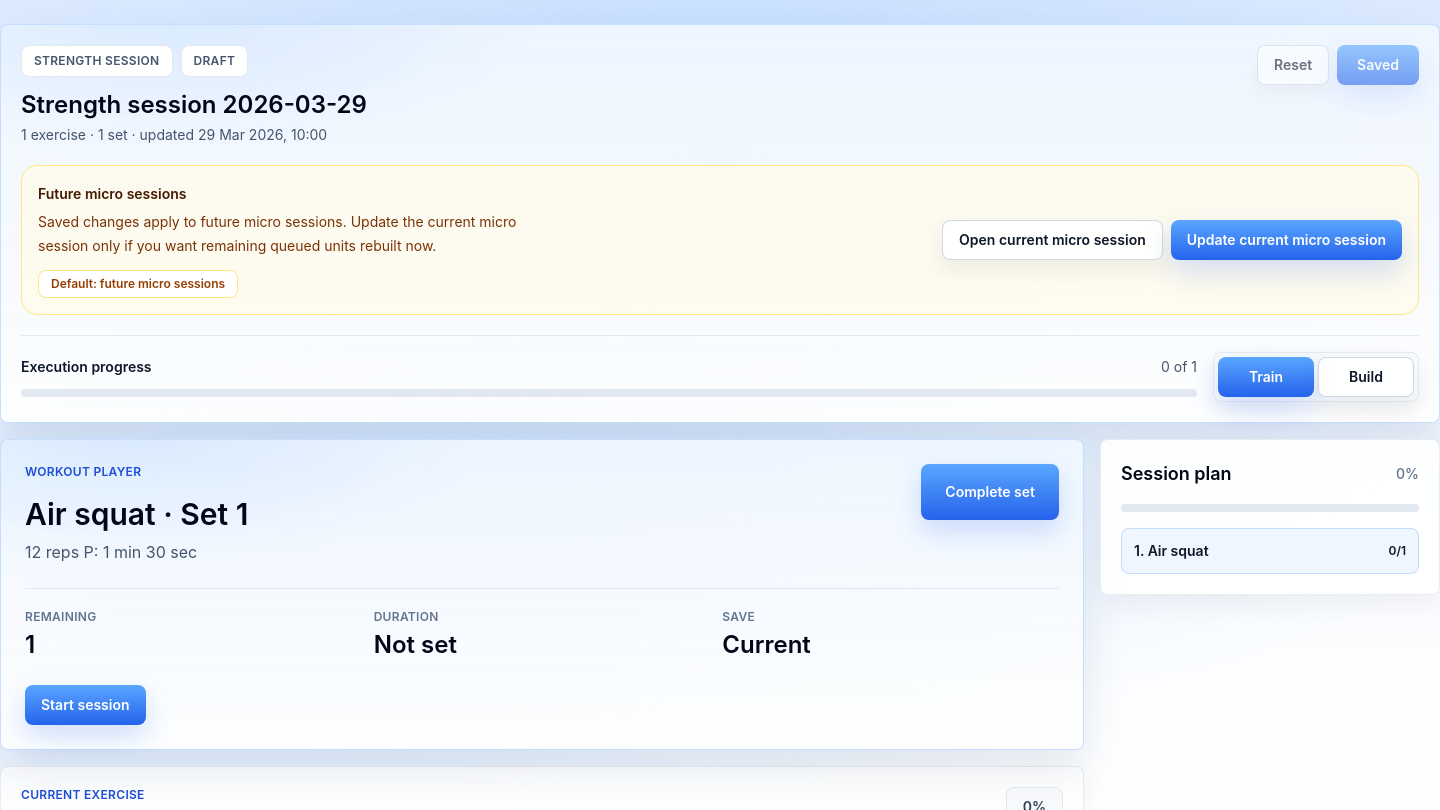
Test case: DrylandBuilderHub › announces current micro-session update guidance when unsaved editor changes block rebuilds
Click the tab with test id "dryland-mode-build". click: click(1366, 377)
box: [1318, 357, 1414, 397]
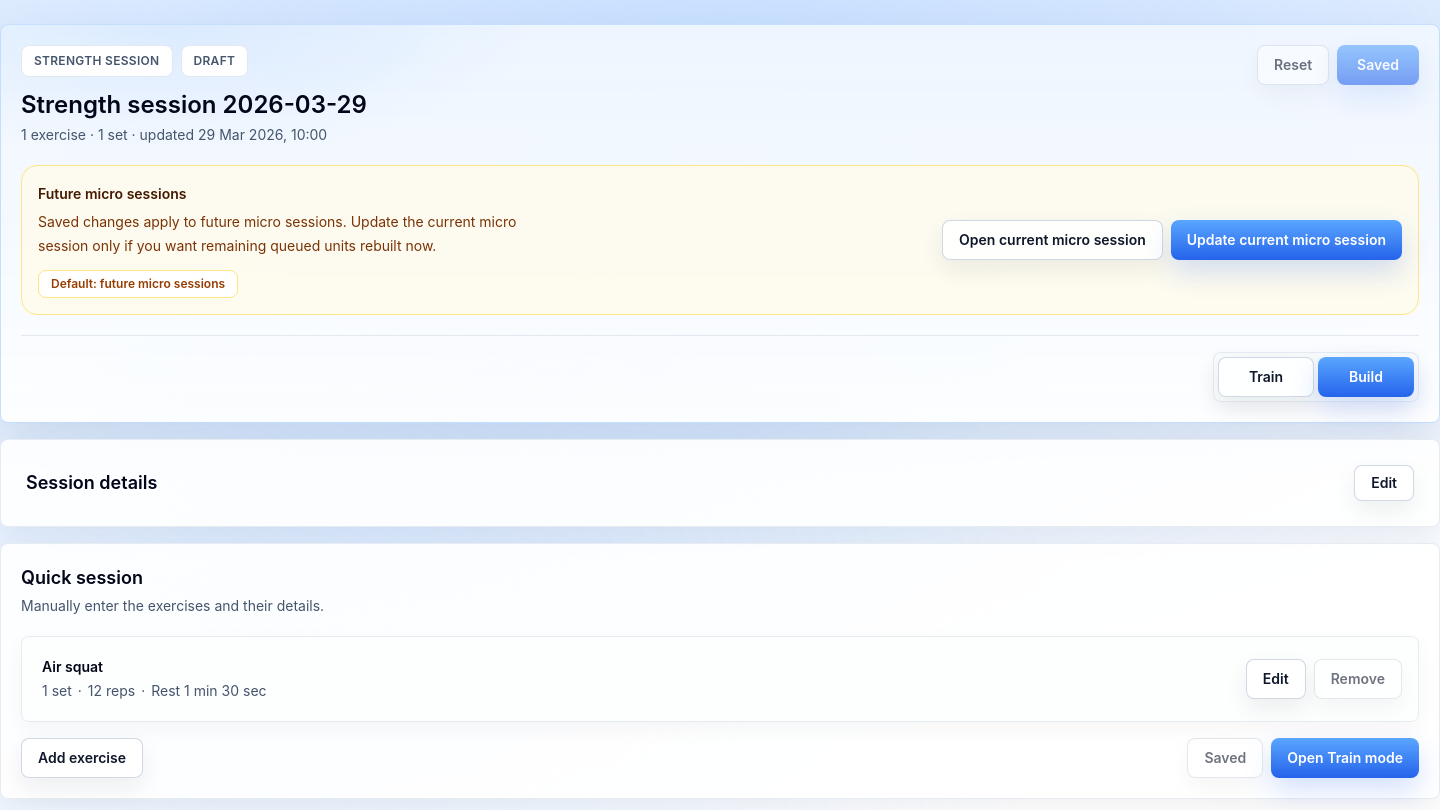
Expected: the element with test id "dryland-build-mode" is shown, [0, 439, 1439, 799]
Click the button with test id "dryland-session-details-toggle". click: click(92, 482)
box: [21, 460, 1419, 506]
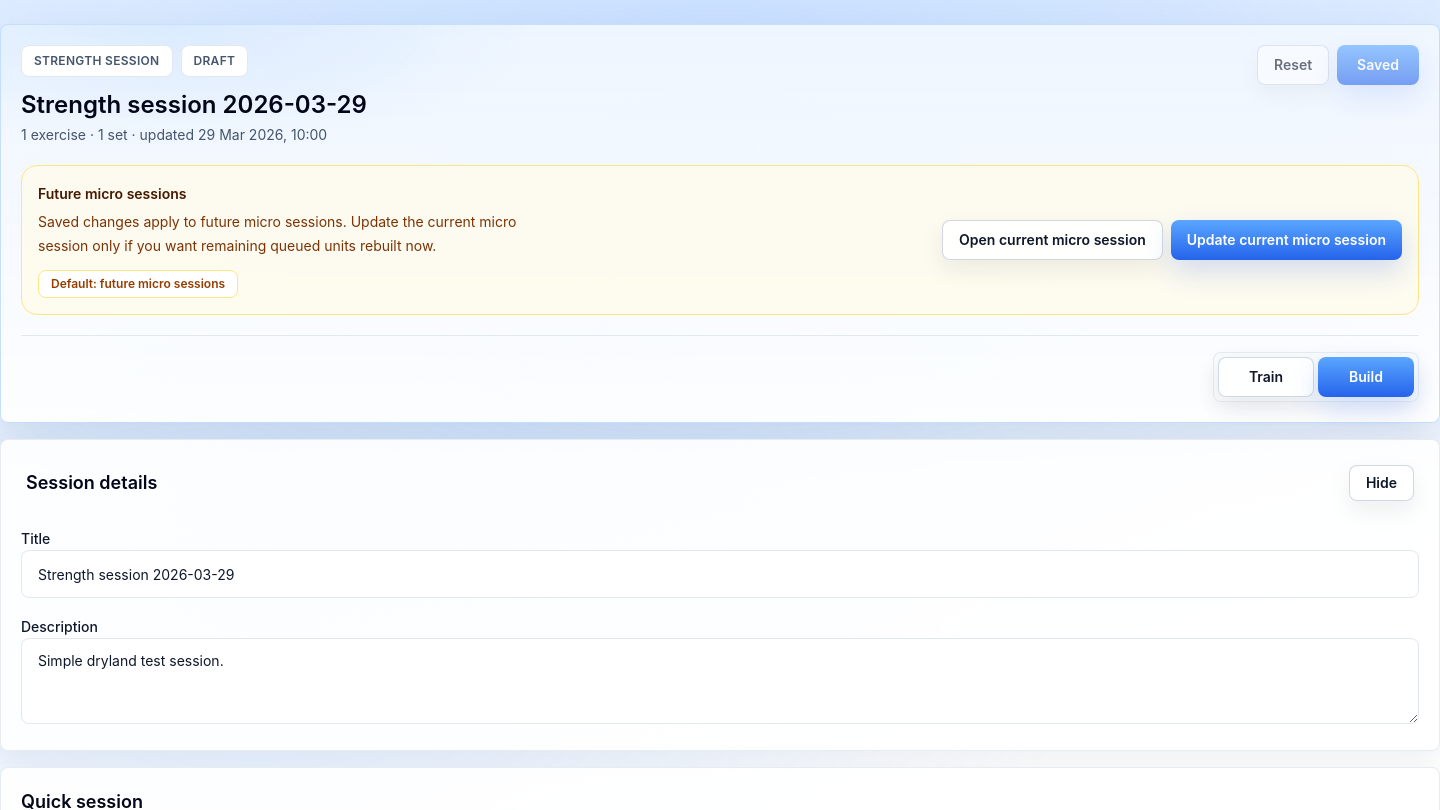
Replace the text in the field with test id "dryland-draft-title" with "Unsaved dryland edits". click: (720, 574)
box: [21, 550, 1419, 598]
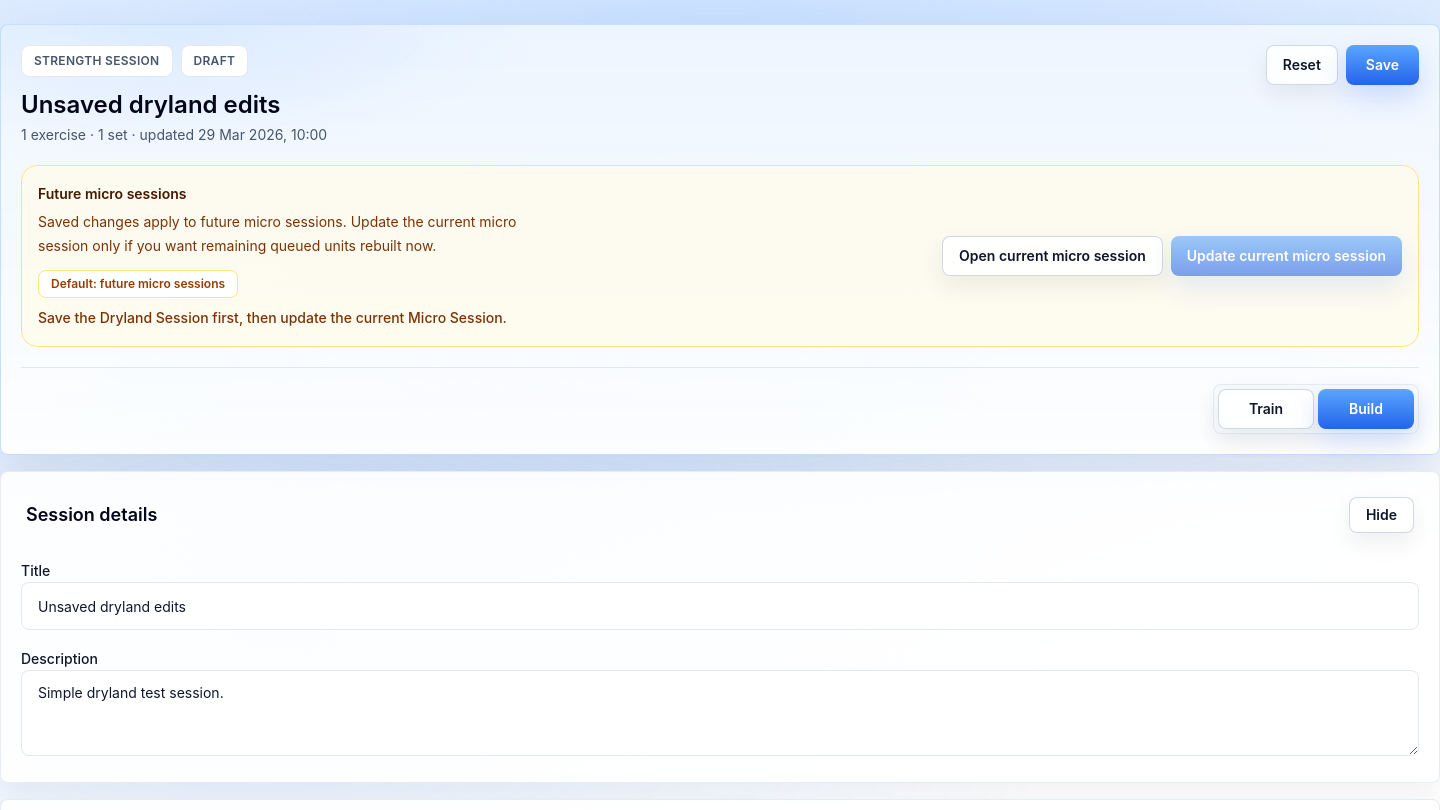
Expected: the text with test id "dryland-update-current-micro-session-blocked" reads "Save the Dryland Session first, then update the current Micro Session.", [38, 309, 507, 326]
Expected: the button with test id "dryland-update-current-micro-session" is disabled, [1171, 236, 1402, 276]
